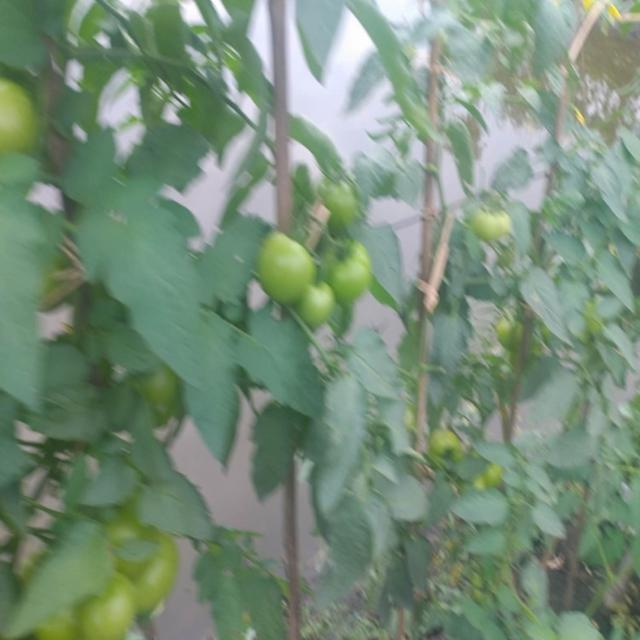tomato: (257, 231, 311, 311), (83, 589, 142, 640), (325, 241, 372, 302), (133, 541, 182, 599), (1, 76, 38, 150), (321, 181, 354, 233), (298, 282, 332, 328), (149, 370, 178, 422), (473, 208, 509, 243), (429, 425, 459, 461), (498, 315, 520, 356), (486, 465, 511, 491)
